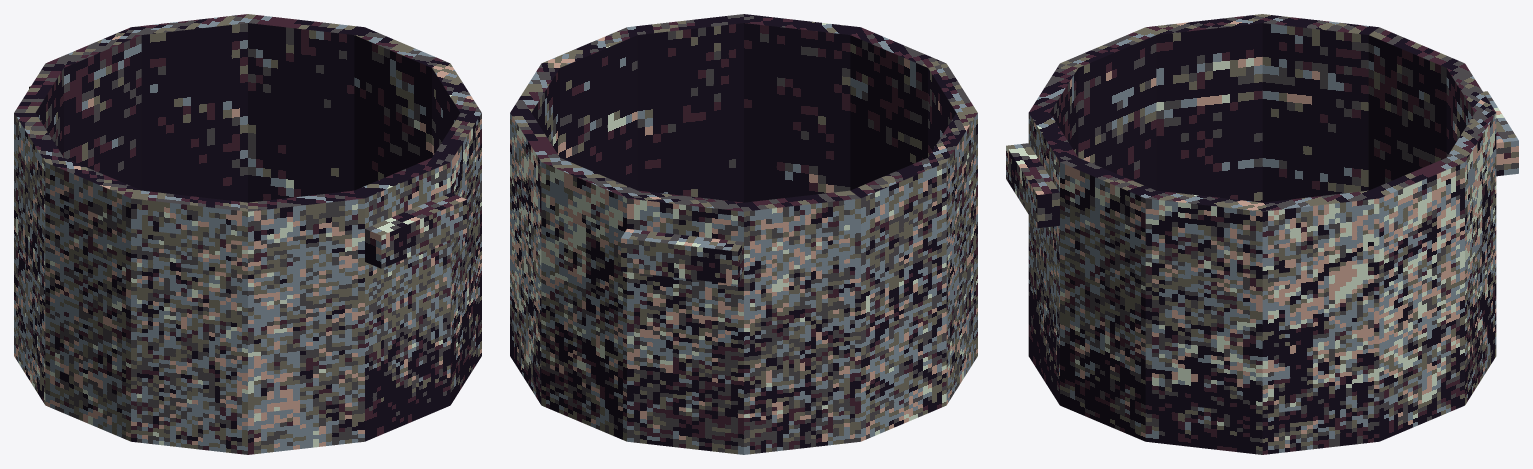
The model's file is pot.gltf.
The picture shows the model from 3 angles, left to right: view 1: azimuth 30°, elevation 25°; view 2: azimuth 150°, elevation 25°; view 3: azimuth 270°, elevation 25°; orthographic projection.
Visible parts, largest first — view 1: pot; view 2: pot; view 3: pot.
Boxes of the visible parts, box(x1,y1,x2,y2) form: pot: box(14, 14, 481, 454); pot: box(510, 14, 977, 454); pot: box(1006, 14, 1518, 454).
Size of the model in its own units: 0.6602 by 0.3789 by 0.724.
Materials: 1 (1 with a texture image).
